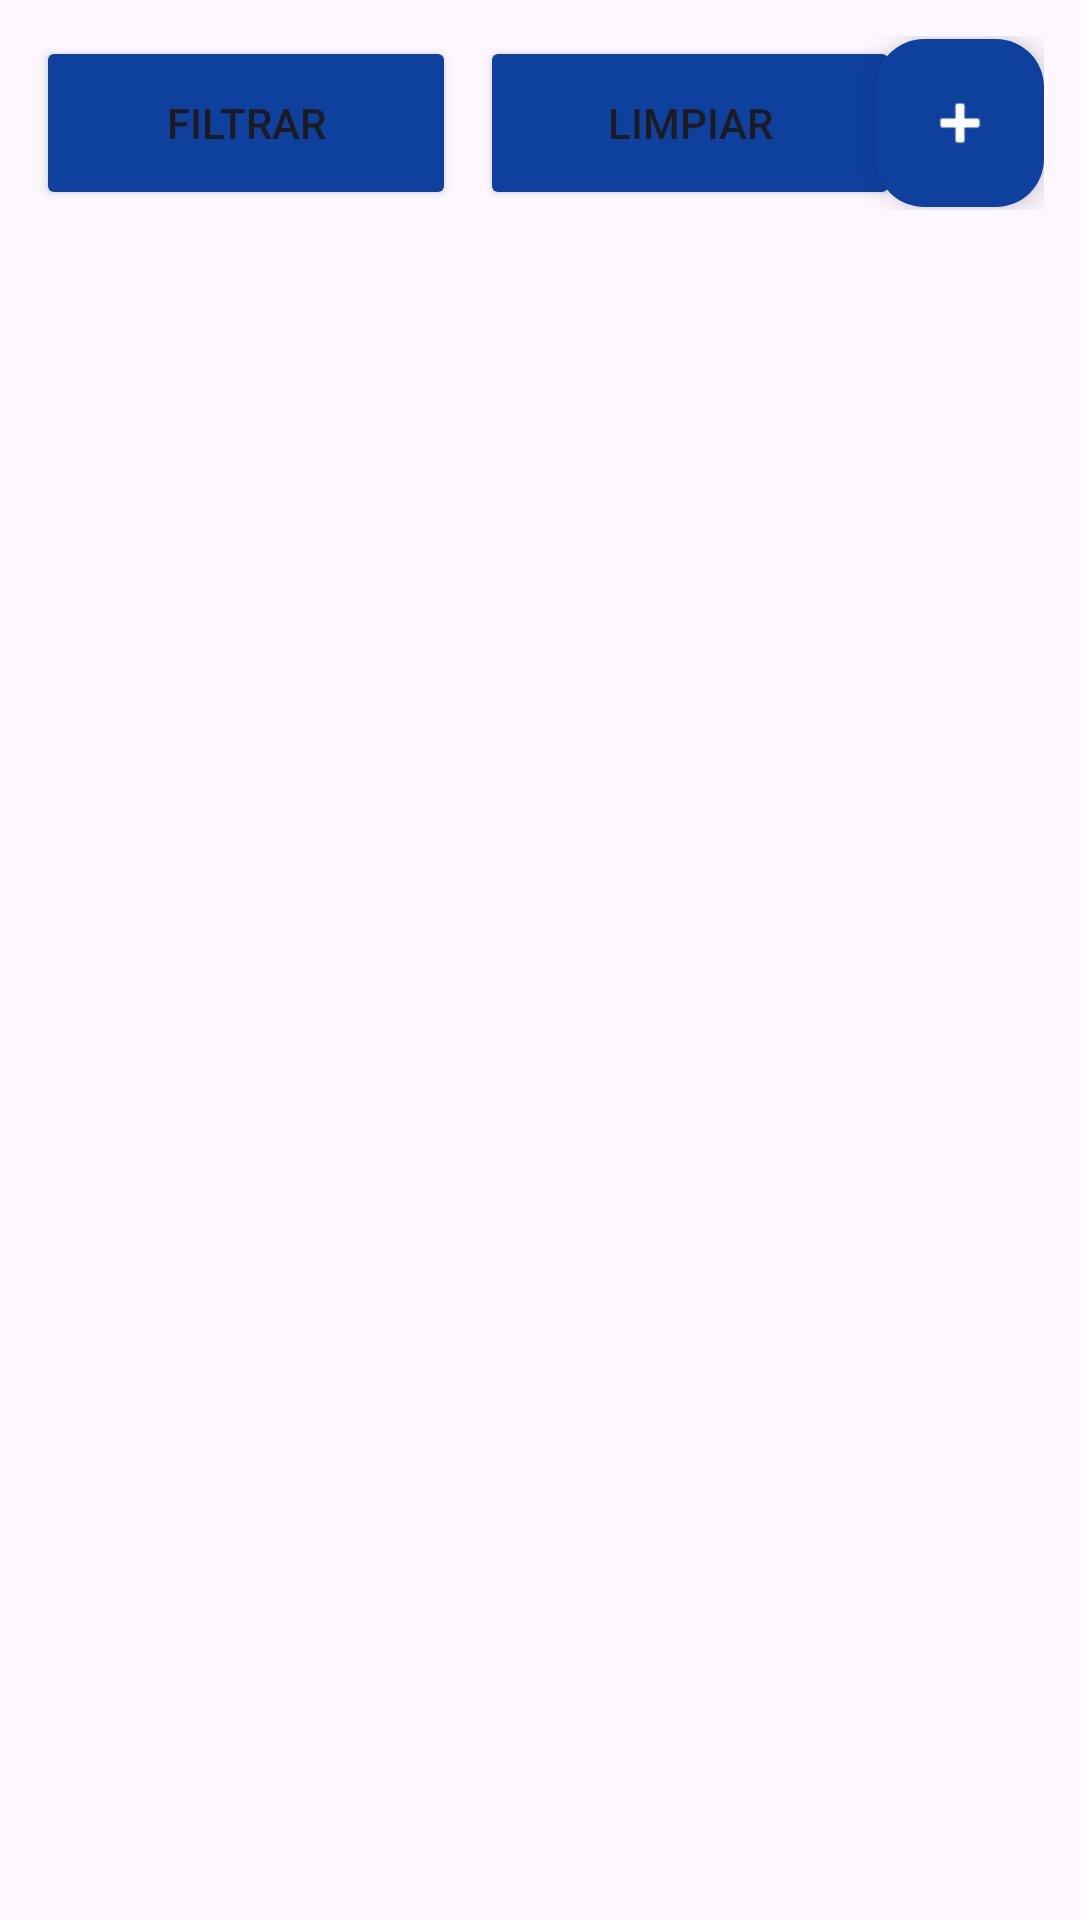

Icons on this 1080px×1920px Android screen, each with the point to tap as point (x, y):
Crear Movimiento: point (960, 123)
